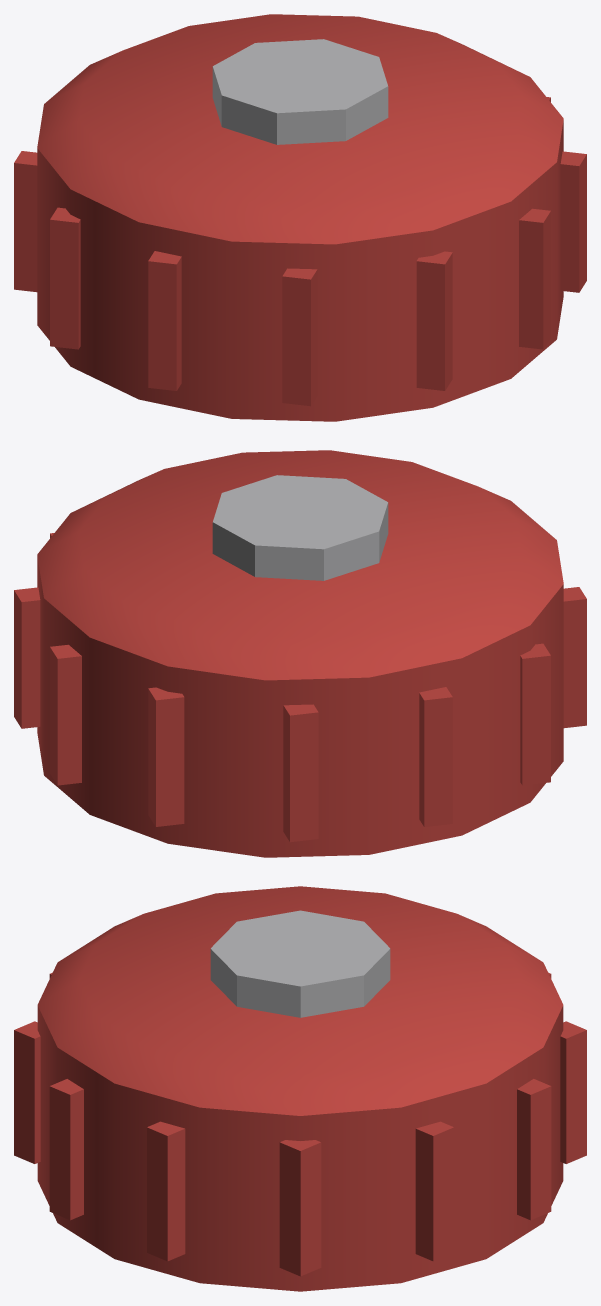
The model's file is lever_boss.glb.
3 renders of one model, top to bottom at view 1: azimuth 30°, elevation 25°; view 2: azimuth 150°, elevation 25°; view 3: azimuth 270°, elevation 25°, orthographic.
Visible parts, largest first — view 1: lever_boss; view 2: lever_boss; view 3: lever_boss.
Part boxes in pixels (left/top/right/bottom): lever_boss: left=14, top=14, right=586, bottom=421; lever_boss: left=14, top=450, right=586, bottom=857; lever_boss: left=14, top=886, right=586, bottom=1291.
Bounding box in the file's own units: 0.0414 × 0.0185 × 0.0414.
